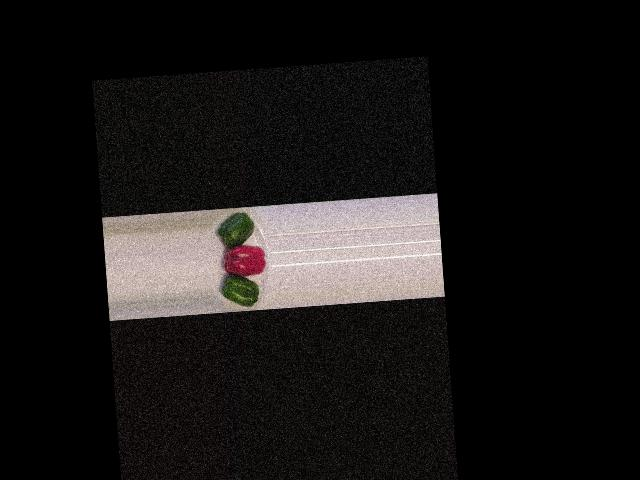bell_pepper: (213, 209, 260, 249)
